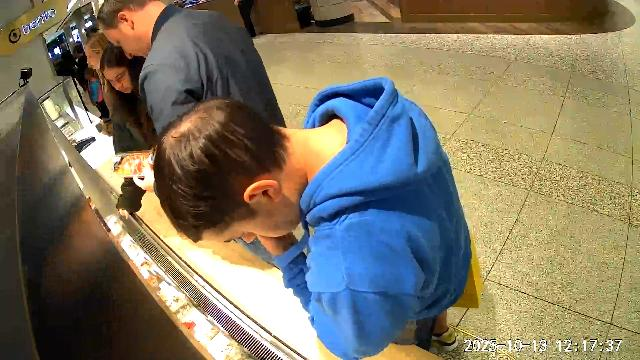sushi-box: (108, 150, 156, 179)
